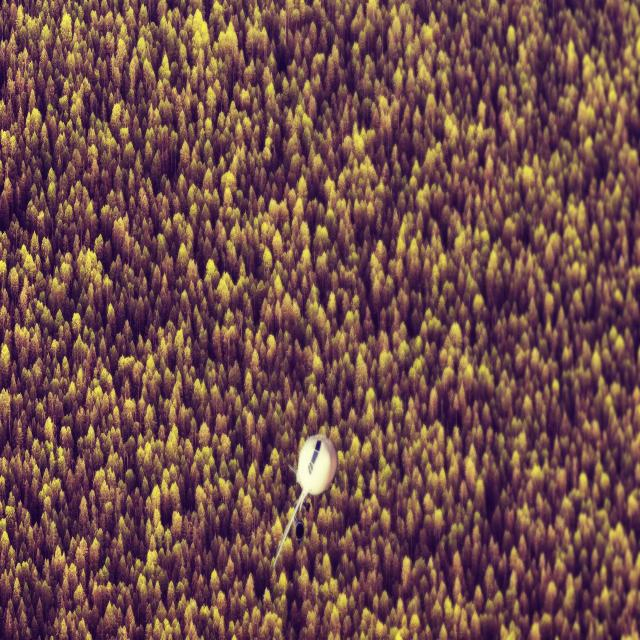airplane: (270, 432, 338, 570)
